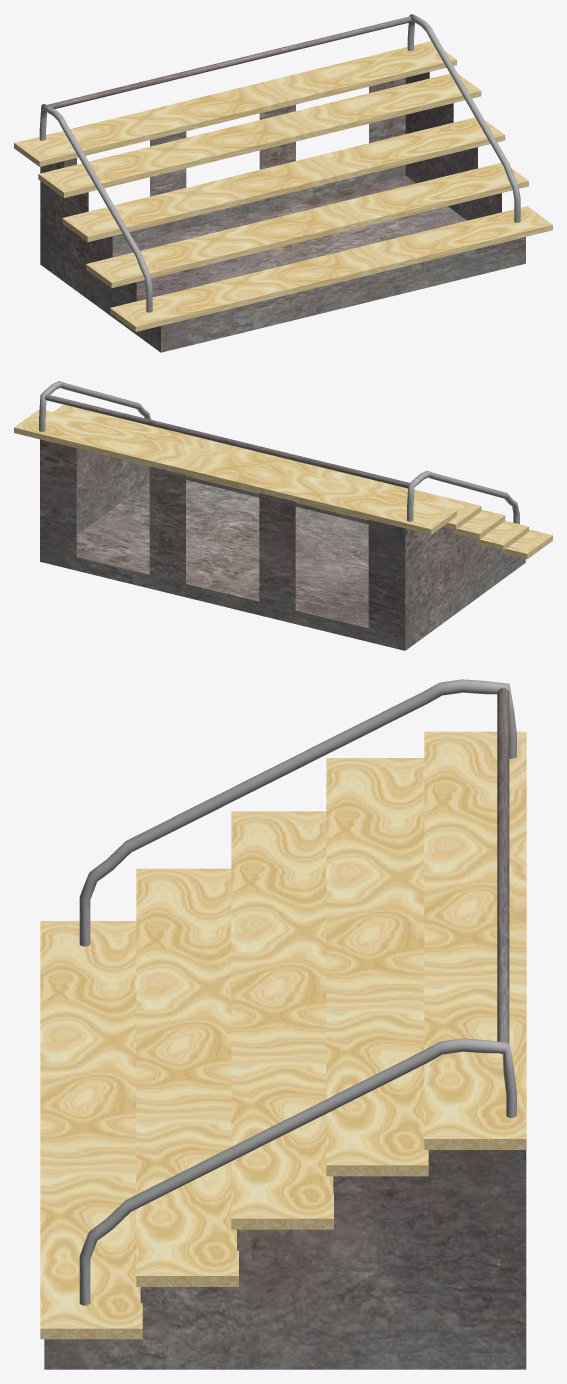
The model's file is Grandstands.FBX.
3 views of the same model, one above another, from view 1: azimuth 30°, elevation 25°; view 2: azimuth 150°, elevation 25°; view 3: azimuth 270°, elevation 25° (orthographic). The views are drawn at different scales.
Parts seen in each view (by area): view 1: Box001, Box002, Box003, Box004, Box005, Box006, Cylinder004, Cylinder003, Cylinder002; view 2: Box001, Box006, Box005, Cylinder004, Cylinder003, Box002, Cylinder002, Box003, Box004; view 3: Box001, Box005, Box002, Box004, Box003, Box006, Cylinder002, Cylinder003, Cylinder004.
Boxes of the visible parts, x1,y1,x2,y2 form: Box001: (40,72,525,352); Box002: (110,206,552,331); Box003: (86,163,528,288); Box004: (62,117,505,241); Box005: (38,73,481,197); Box006: (14,41,456,166); Cylinder004: (47,16,412,108); Cylinder003: (39,104,152,312); Cylinder002: (407,14,520,222); Box001: (40,439,525,650); Box006: (14,409,456,534); Box005: (53,404,481,529); Cylinder004: (45,394,409,488); Cylinder003: (407,471,519,524); Box002: (136,463,552,559); Cylinder002: (39,381,150,431); Box003: (453,521,528,550); Box004: (453,509,505,539); Box001: (44,1150,526,1369); Box005: (326,758,428,1176); Box002: (40,921,142,1339); Box004: (231,811,333,1229); Box003: (136,868,238,1286); Box006: (424,731,526,1149); Cylinder002: (79,1038,516,1305); Cylinder003: (79,679,516,946); Cylinder004: (497,687,509,1054).
Bounding box in the file's own units: 160 × 60.8 × 80.72.
